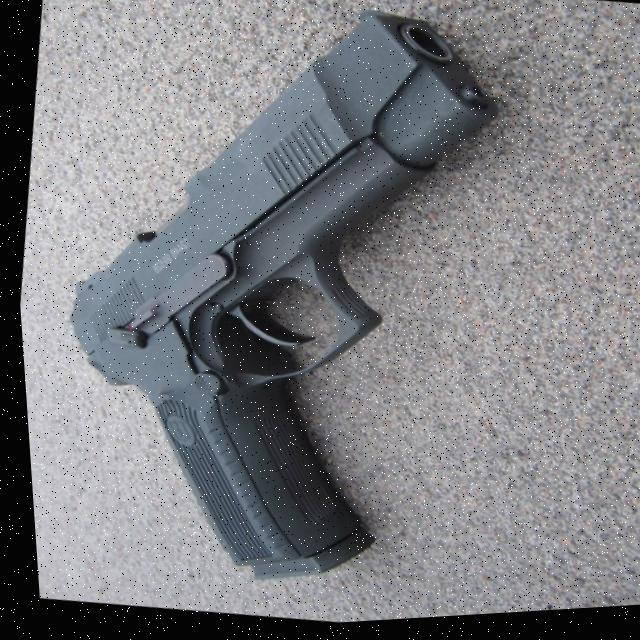pistol: (13, 0, 543, 623)
